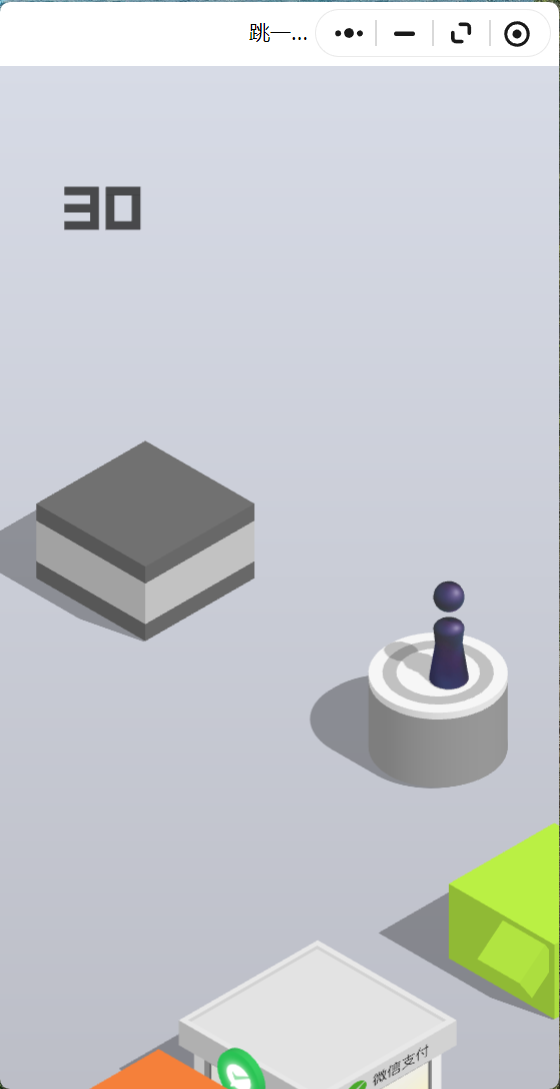piece: (433, 581, 464, 688)
target: (36, 441, 255, 566)
